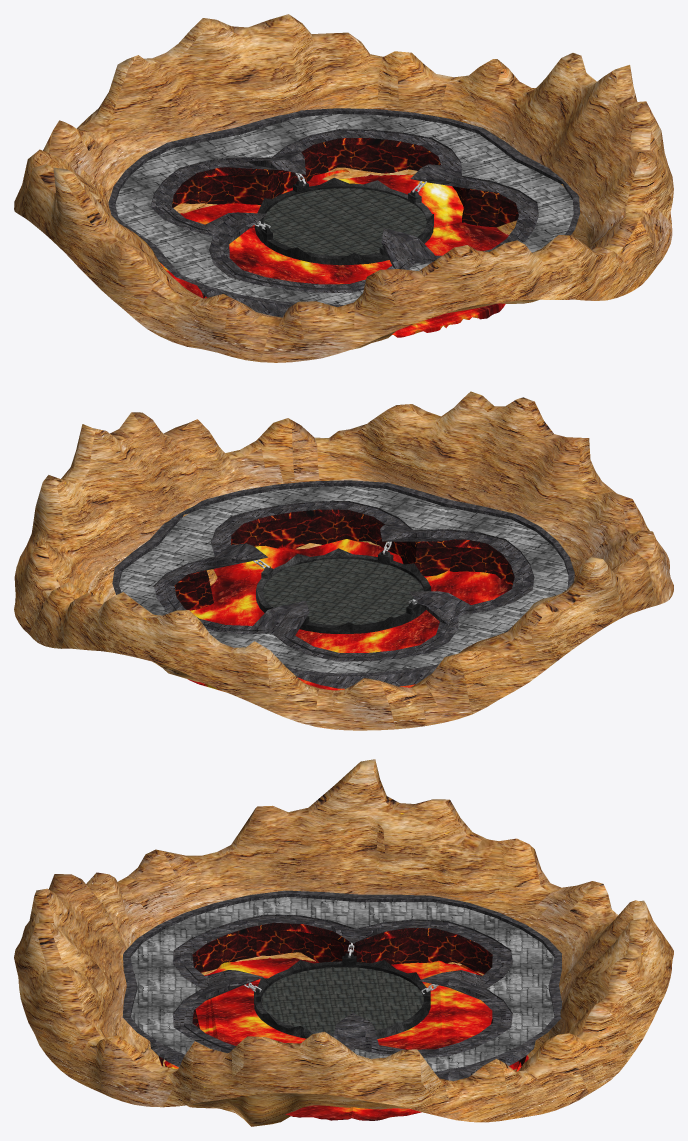
Rendered from hell-arena.obj.
The picture shows the model from 3 angles, top to bottom: view 1: azimuth 30°, elevation 25°; view 2: azimuth 150°, elevation 25°; view 3: azimuth 270°, elevation 25°; orthographic projection. The views are drawn at different scales.
Visible parts, largest first — view 1: Cylinder, Circle, Circle.002, Circle.003, Circle.001; view 2: Cylinder, Circle, Circle.002, Circle.003, Circle.001; view 3: Cylinder, Circle, Circle.002, Circle.003, Circle.001.
Part boxes in pixels (<box>): Cylinder: <box>14,14,673,362</box>; Circle: <box>108,108,580,317</box>; Circle.002: <box>159,169,508,337</box>; Circle.003: <box>263,188,426,255</box>; Circle.001: <box>254,177,433,265</box>; Cylinder: <box>14,391,673,730</box>; Circle: <box>112,480,574,688</box>; Circle.002: <box>188,539,511,691</box>; Circle.003: <box>263,558,421,625</box>; Circle.001: <box>256,548,431,633</box>; Cylinder: <box>14,759,673,1126</box>; Circle: <box>122,890,561,1081</box>; Circle.002: <box>164,957,528,1120</box>; Circle.003: <box>262,967,423,1032</box>; Circle.001: <box>254,953,430,1038</box>.
Size of the model in its own units: 53.37 by 14.68 by 53.94.
8 materials, 7 textured.
